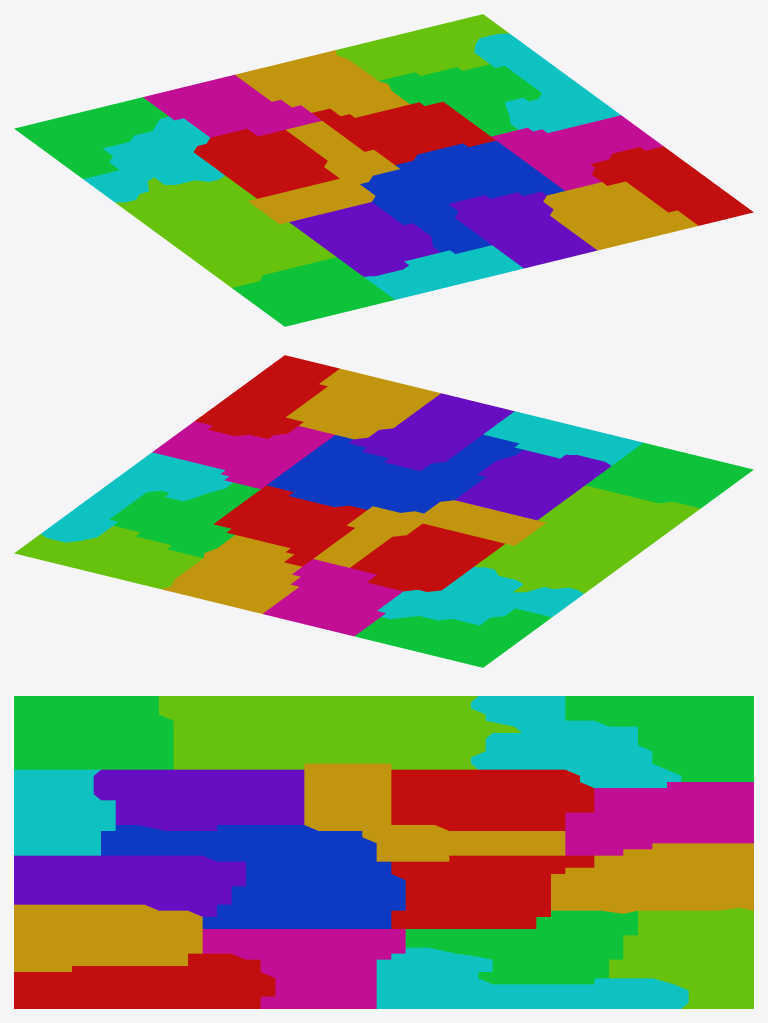
3 renders of one model, top to bottom at view 1: azimuth 30°, elevation 25°; view 2: azimuth 150°, elevation 25°; view 3: azimuth 270°, elevation 25°, orthographic. The views are drawn at different scales.
Size of the model in its own units: 2 by 0 by 2.
